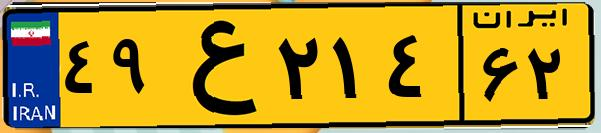1: (330, 28, 385, 110)
2: (270, 28, 330, 110), (525, 38, 570, 115)
4: (385, 28, 445, 110), (57, 26, 110, 100)
6: (475, 38, 525, 113)
9: (110, 28, 158, 98)
ع: (158, 12, 270, 120)
